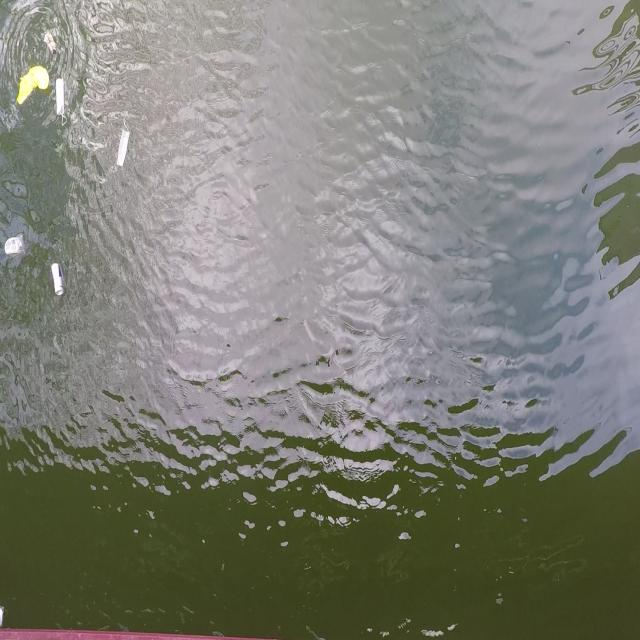Non plastique: (114, 116, 133, 176), (46, 255, 66, 303), (54, 71, 70, 131)
Sac plastique: (16, 66, 52, 106)
